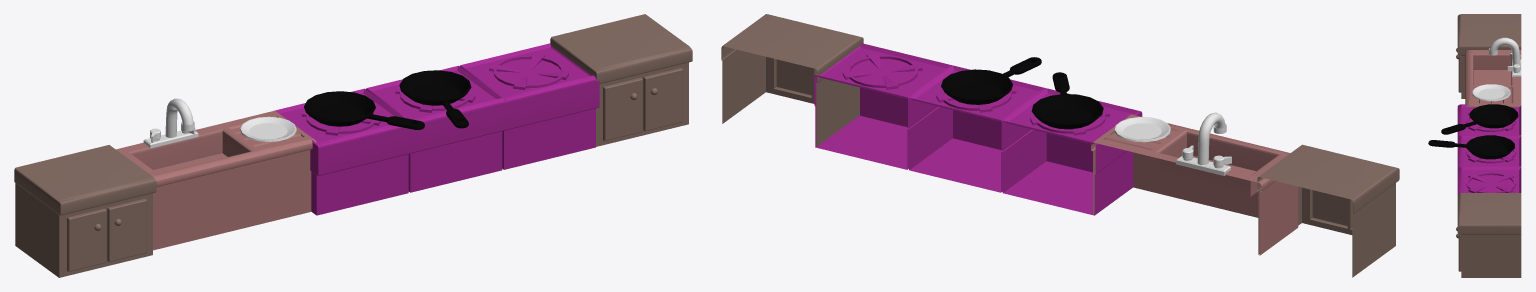
Rendered from KitchenAreaForUnity.fbx.
3 renders of one model, left to right at view 1: azimuth 30°, elevation 25°; view 2: azimuth 150°, elevation 25°; view 3: azimuth 270°, elevation 25°, orthographic. The views are drawn at different scales.
Parts seen in each view (by area): view 1: sink, counterwood2, counterwood, Oven, Oven2, oven3, pan2, pan1, focet, Plate1; view 2: sink, counterwood, Oven2, counterwood2, Oven, oven3, pan1, pan2, focet, Plate1; view 3: counterwood, counterwood2, sink, Oven, pan1, oven3, pan2, Oven2, focet, Plate1.
Part boxes in pixels (x1,y1,x2,y2): sink: (116, 110, 316, 250); counterwood2: (14, 145, 156, 277); counterwood: (550, 14, 692, 146); Oven: (459, 43, 599, 169); Oven2: (273, 88, 411, 215); oven3: (366, 65, 505, 192); pan2: (304, 91, 424, 129); pan1: (399, 70, 471, 128); focet: (143, 98, 198, 148); Plate1: (240, 116, 296, 141); sink: (1091, 114, 1298, 255); counterwood: (721, 14, 863, 146); Oven2: (1001, 88, 1142, 215); counterwood2: (1257, 144, 1399, 277); Oven: (814, 43, 952, 169); oven3: (908, 65, 1046, 192); pan1: (941, 57, 1041, 104); pan2: (1031, 72, 1103, 129); focet: (1176, 112, 1231, 175); Plate1: (1114, 117, 1170, 142); counterwood: (1456, 193, 1521, 277); counterwood2: (1456, 14, 1521, 98); sink: (1465, 50, 1521, 107); Oven: (1457, 166, 1521, 194); pan1: (1428, 135, 1514, 159); oven3: (1457, 135, 1521, 168); pan2: (1441, 104, 1518, 134); Oven2: (1457, 104, 1521, 137); focet: (1489, 37, 1521, 77); Plate1: (1472, 84, 1510, 101).
Bounding box in the file's own units: 17.6 × 3.14 × 3.28.
